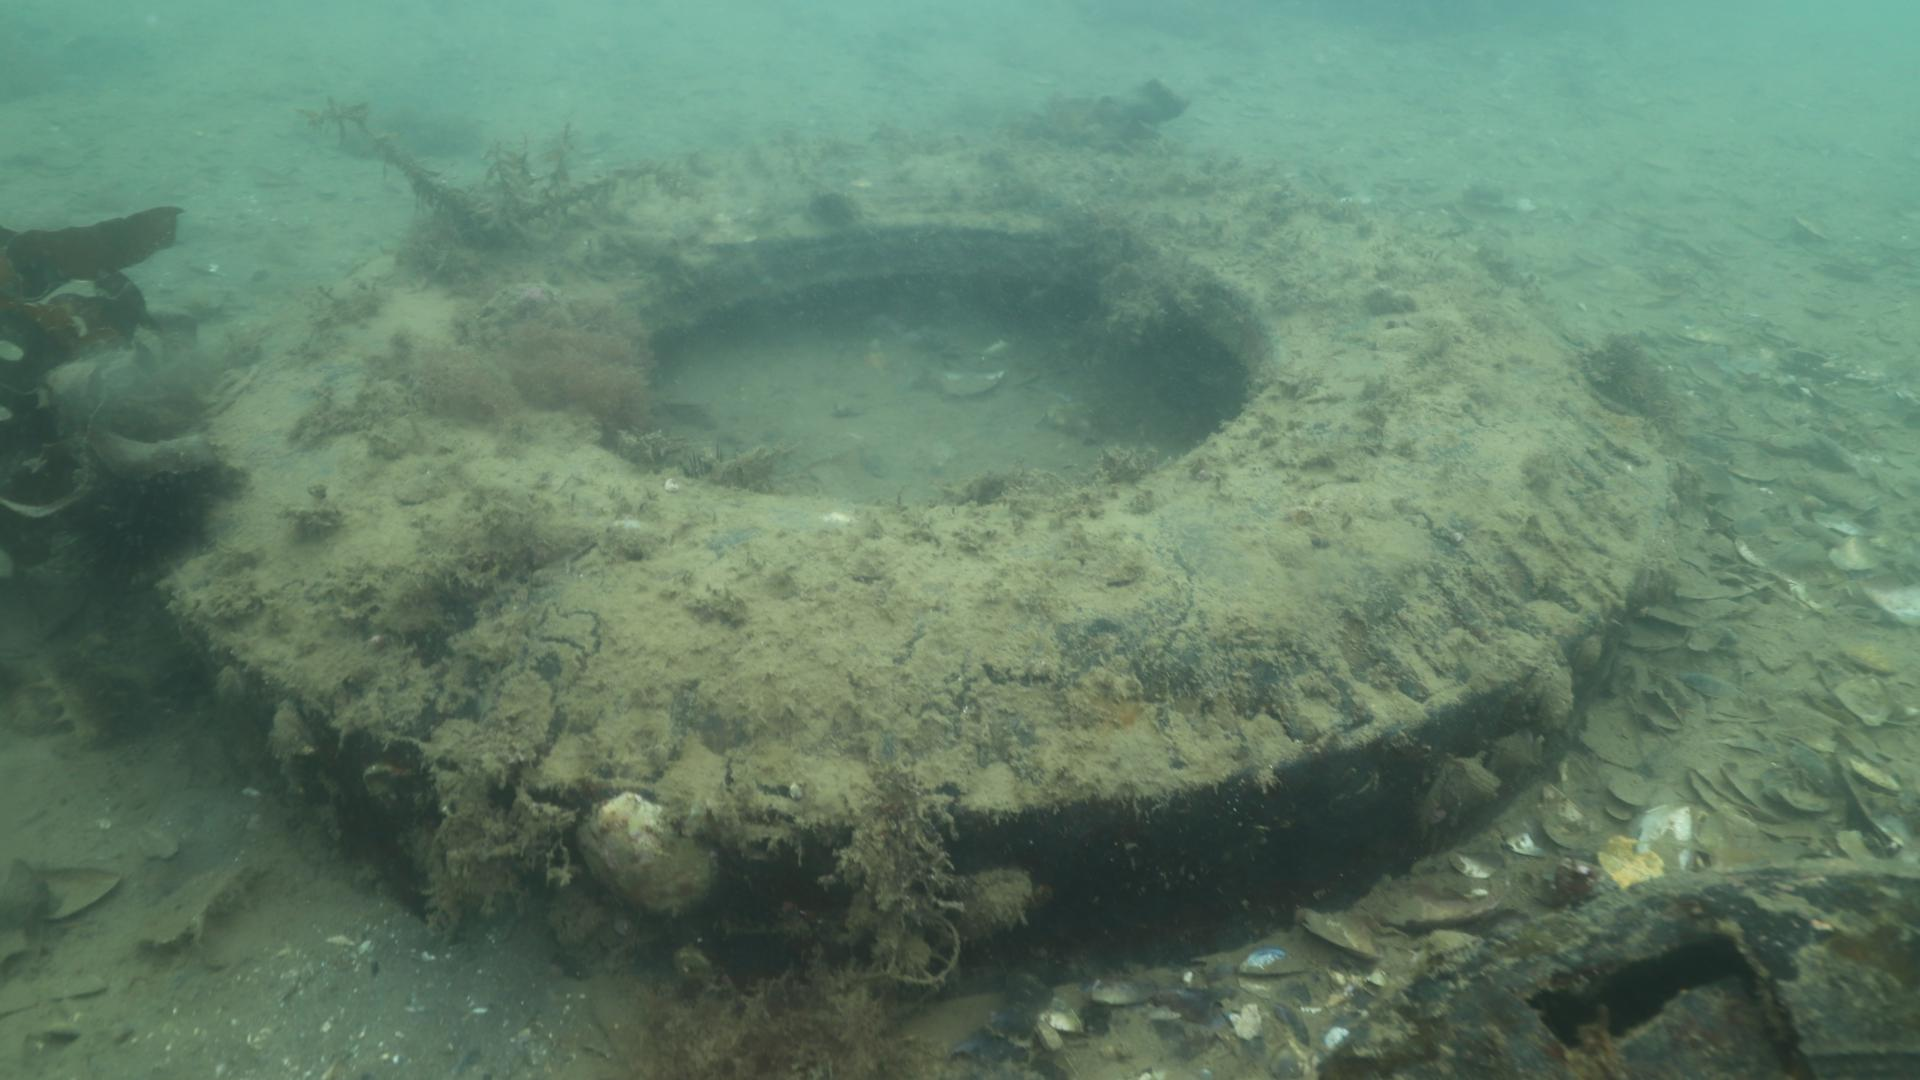tire: (149, 120, 1663, 976)
